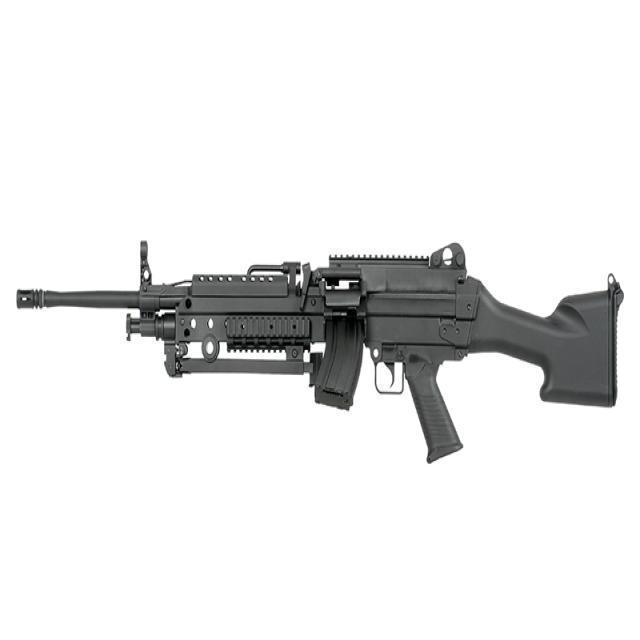Rifle: (16, 238, 624, 466)
